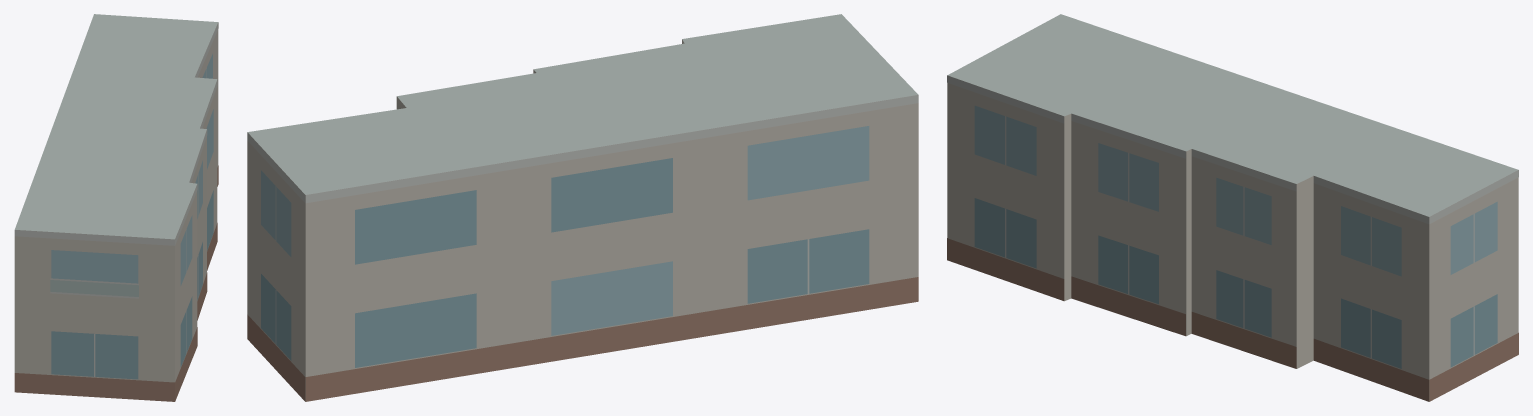
Rendered from survey-upis-32926698.glb.
3 renders of one model, left to right at view 1: azimuth 30°, elevation 25°; view 2: azimuth 150°, elevation 25°; view 3: azimuth 270°, elevation 25°, orthographic. The views are drawn at different scales.
Visible parts, largest first — view 1: survey-upis-32926698.tmp; view 2: survey-upis-32926698.tmp; view 3: survey-upis-32926698.tmp.
Boxes of the visible parts, x1,y1,x2,y2 form: survey-upis-32926698.tmp: (14, 14, 218, 401); survey-upis-32926698.tmp: (247, 14, 918, 401); survey-upis-32926698.tmp: (947, 14, 1518, 401).
Size of the model in its own units: 14.37 by 6.1 by 17.1.
